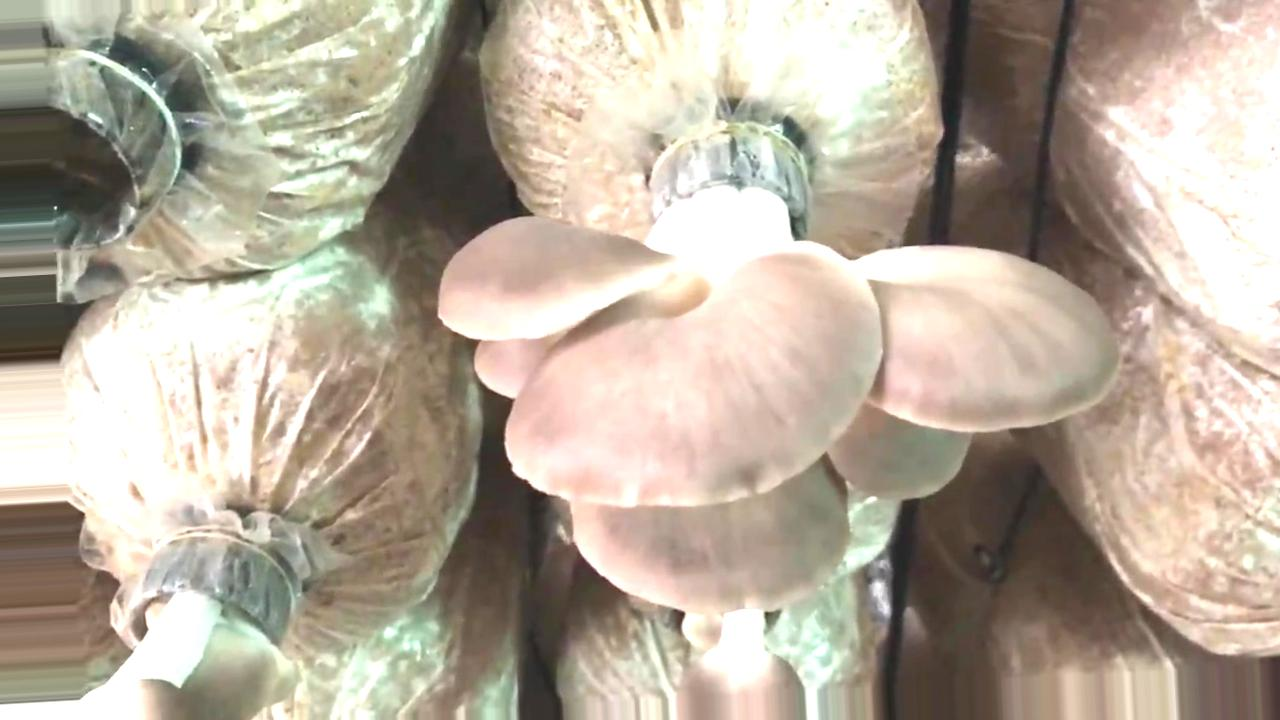nam: (436, 127, 1120, 613), (78, 548, 278, 720), (677, 616, 807, 720)
